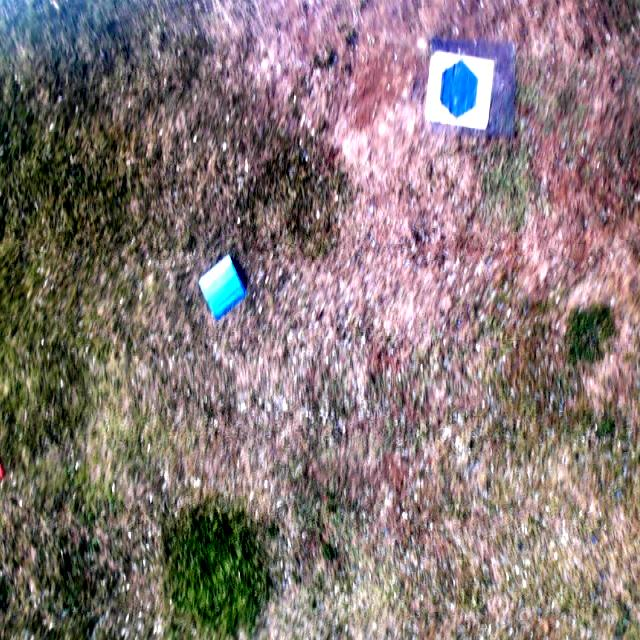blue_hexagon: (440, 60, 477, 118)
blue_square: (199, 253, 246, 319)
